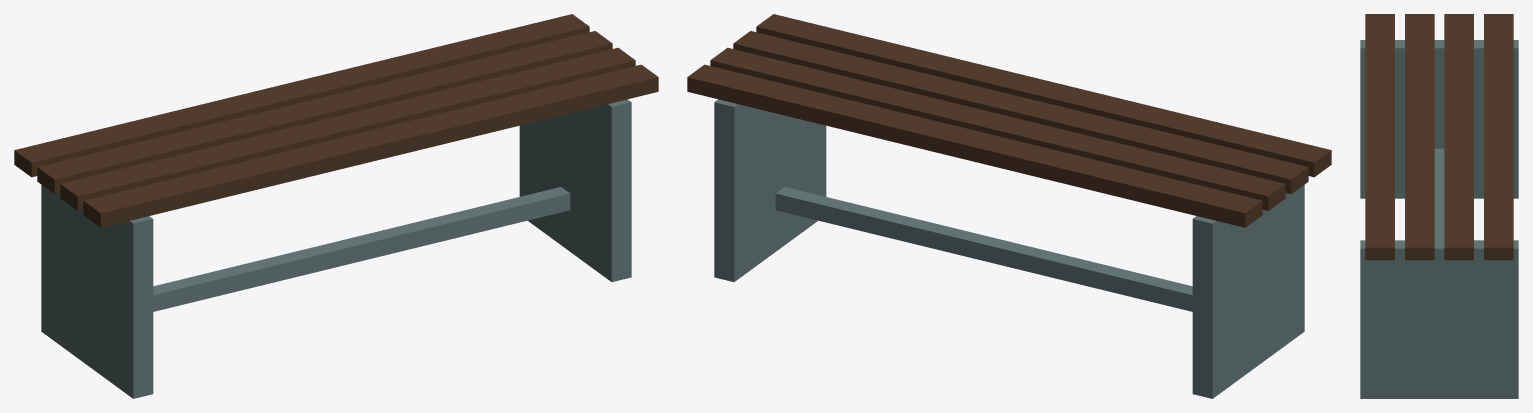
Rendered from PRP_P2_Bench_Hall_A.obj.
3 views of the same model, side by side, from view 1: azimuth 30°, elevation 25°; view 2: azimuth 150°, elevation 25°; view 3: azimuth 270°, elevation 25° (orthographic). The views are drawn at different scales.
Visible parts, largest first — view 1: slat_3, frame_l, frame_r, slat_0, slat_1, slat_2, stretcher; view 2: slat_0, frame_l, frame_r, slat_3, slat_1, slat_2, stretcher; view 3: frame_r, slat_0, slat_1, slat_2, slat_3, frame_l, stretcher.
Part boxes in pixels (x1=…): slat_3: x1=83, y1=64, x2=658, y2=227; frame_l: x1=41, y1=185, x2=153, y2=398; frame_r: x1=519, y1=99, x2=631, y2=281; slat_0: x1=14, y1=14, x2=589, y2=177; slat_1: x1=37, y1=31, x2=612, y2=194; slat_2: x1=60, y1=47, x2=635, y2=210; stretcher: x1=153, y1=187, x2=570, y2=311; slat_0: x1=687, y1=64, x2=1262, y2=227; frame_l: x1=1192, y1=185, x2=1304, y2=398; frame_r: x1=714, y1=99, x2=826, y2=281; slat_3: x1=756, y1=14, x2=1331, y2=177; slat_1: x1=710, y1=47, x2=1285, y2=210; slat_2: x1=733, y1=31, x2=1308, y2=194; stretcher: x1=775, y1=187, x2=1192, y2=311; frame_r: x1=1360, y1=240, x2=1518, y2=398; slat_0: x1=1484, y1=14, x2=1513, y2=260; slat_1: x1=1444, y1=14, x2=1473, y2=260; slat_2: x1=1405, y1=14, x2=1434, y2=260; slat_3: x1=1365, y1=14, x2=1394, y2=260; frame_l: x1=1360, y1=40, x2=1518, y2=198; stretcher: x1=1434, y1=148, x2=1444, y2=240.
Bounding box in the file's own units: 1.4 × 0.4575 × 0.4.
